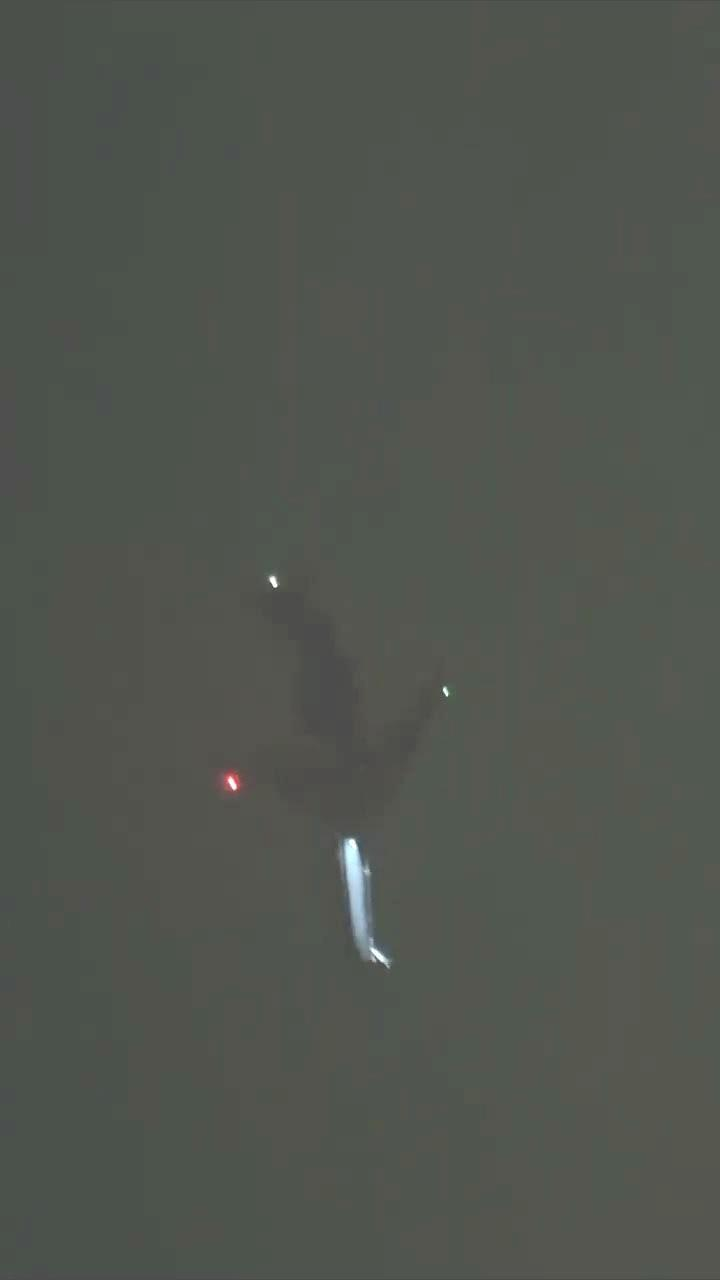Plane: (187, 523, 466, 1019)
